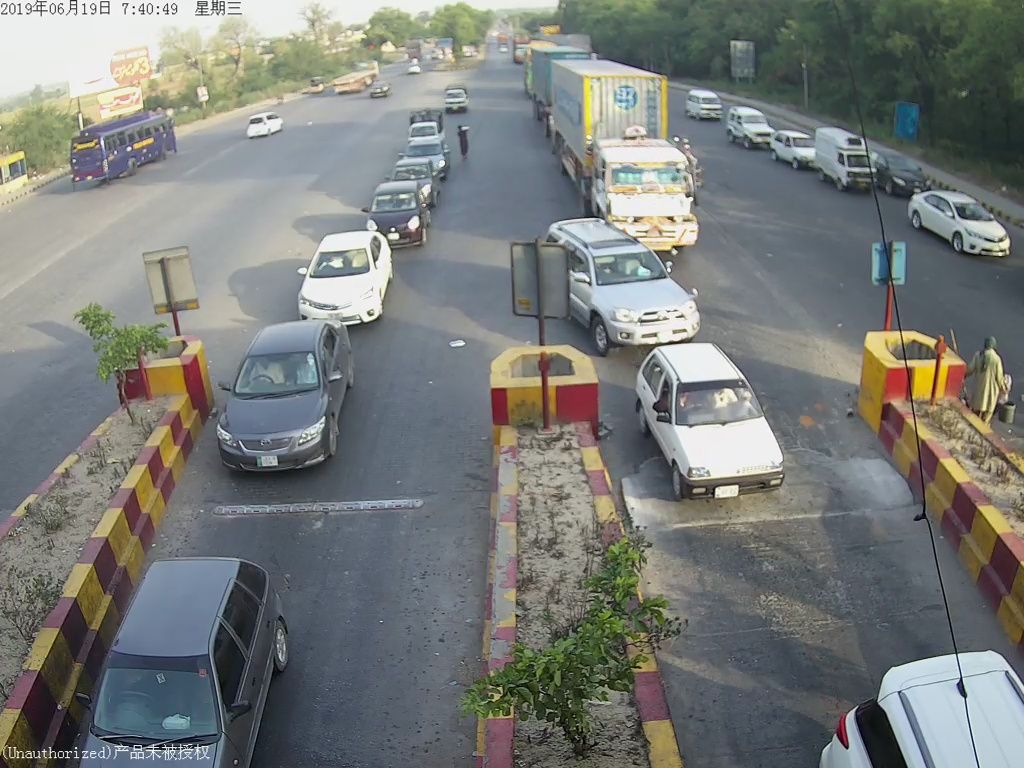Cat-1: (638, 351, 804, 500), (217, 322, 353, 461), (538, 231, 707, 339), (295, 231, 387, 319)
Cat-5: (548, 68, 702, 225)
